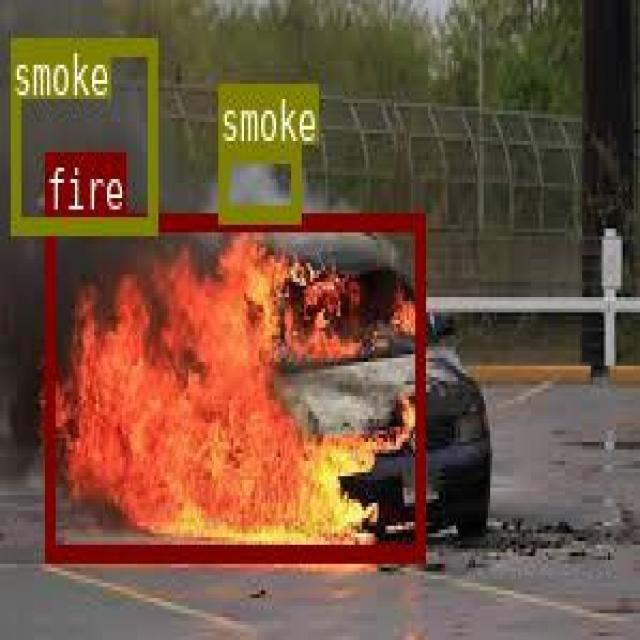fire: (44, 211, 423, 557)
smoke: (10, 37, 154, 231), (218, 143, 298, 217)
